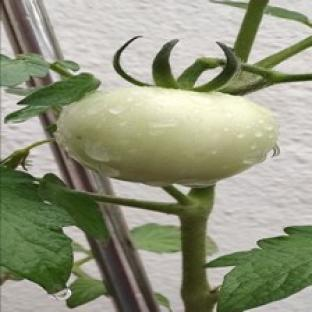Tomato: (58, 87, 278, 186)
